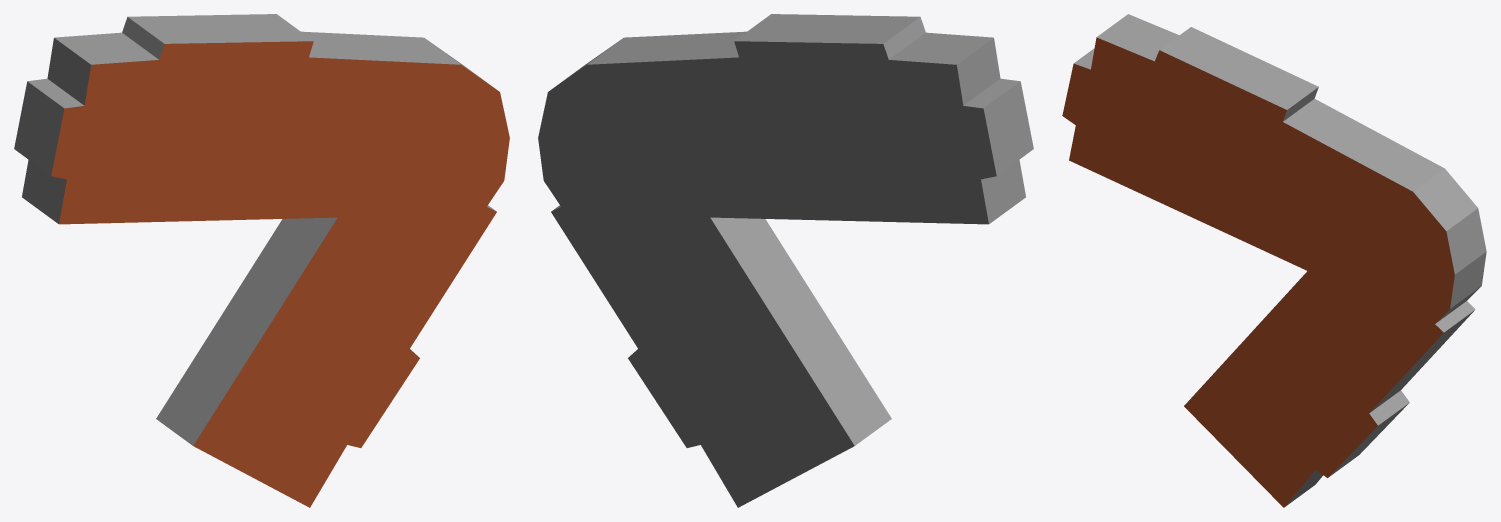
The model's file is construction_4135_assumed_A_Casa_h6m.obj.
3 renders of one model, left to right at view 1: azimuth 30°, elevation 25°; view 2: azimuth 150°, elevation 25°; view 3: azimuth 330°, elevation 25°, orthographic. The views are drawn at different scales.
Parts seen in each view (by area): view 1: construction_4135_assumed_A_Casa; view 2: construction_4135_assumed_A_Casa; view 3: construction_4135_assumed_A_Casa.
Part boxes in pixels (x1,y1,x2,y2): construction_4135_assumed_A_Casa: (14, 14, 509, 507); construction_4135_assumed_A_Casa: (538, 14, 1033, 507); construction_4135_assumed_A_Casa: (1062, 14, 1486, 507).
Size of the model in its own units: 42.76 by 44.49 by 6.
